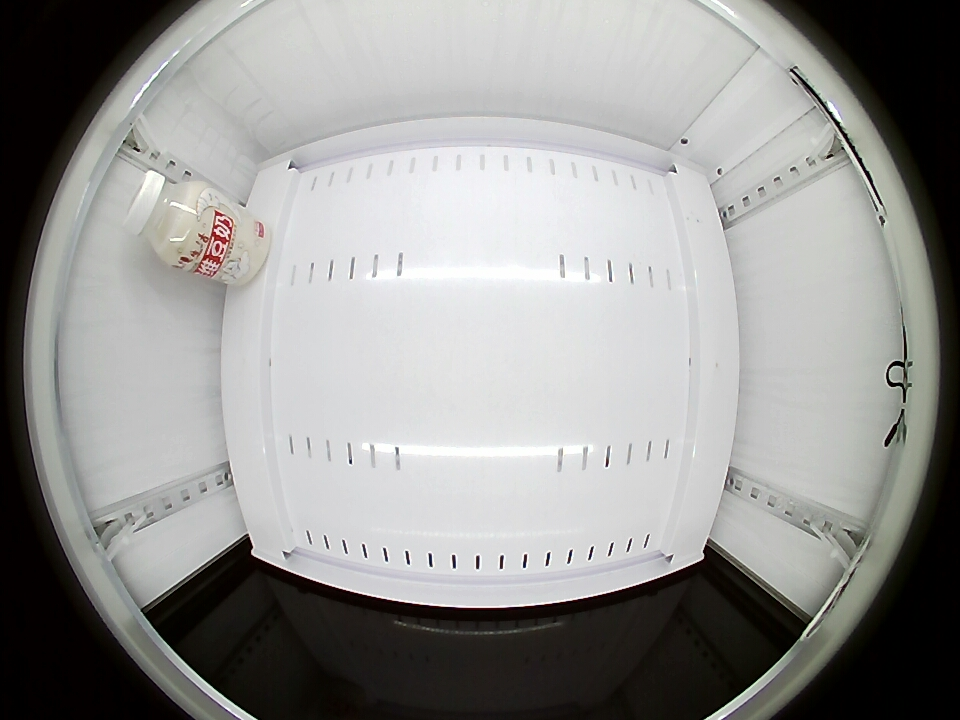weiweidounai: (122, 171, 213, 268)
